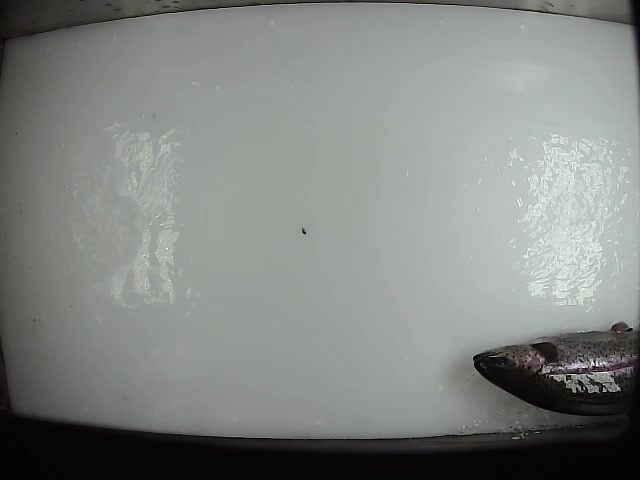fish: (471, 311, 639, 425)
